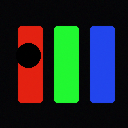2 circle: (16, 43, 40, 67)
